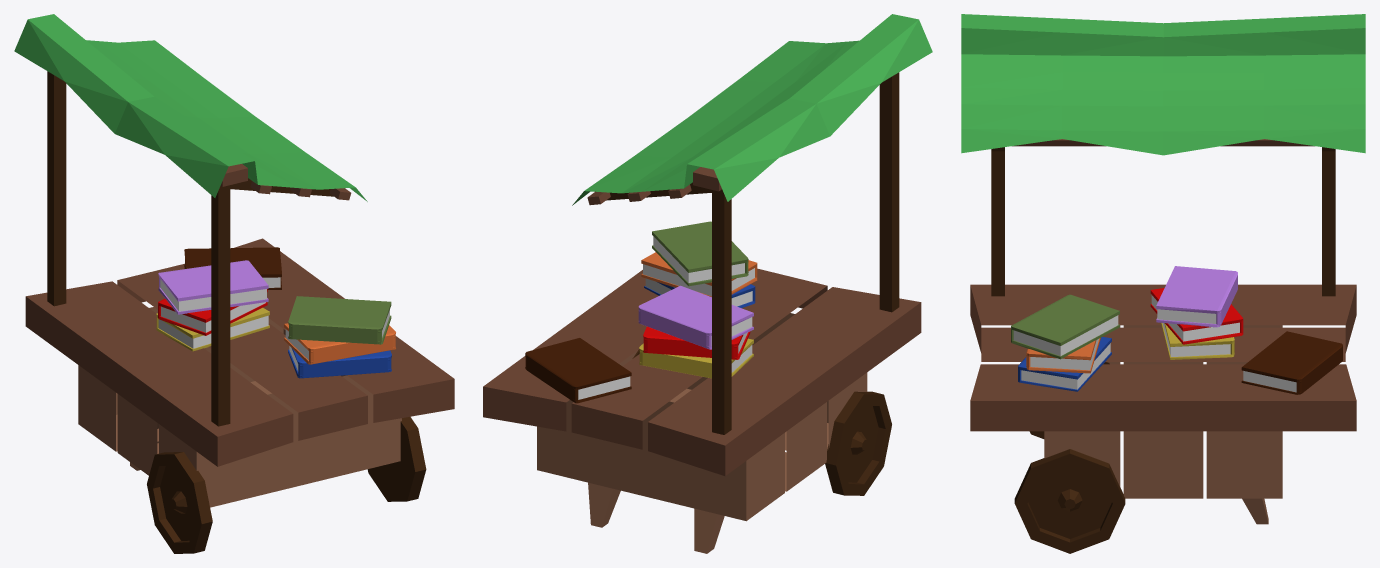
The model's file is BookStand5.fbx.
The picture shows the model from 3 angles, left to right: view 1: azimuth 30°, elevation 25°; view 2: azimuth 150°, elevation 25°; view 3: azimuth 270°, elevation 25°; orthographic projection. The views are drawn at different scales.
Visible parts, largest first — view 1: BookStand; view 2: BookStand; view 3: BookStand.
Part boxes in pixels (x1,y1,x2,y2): BookStand: [14, 14, 454, 553]; BookStand: [483, 14, 932, 553]; BookStand: [961, 14, 1365, 553].
Size of the model in its own units: 930 by 1556 by 1327.
